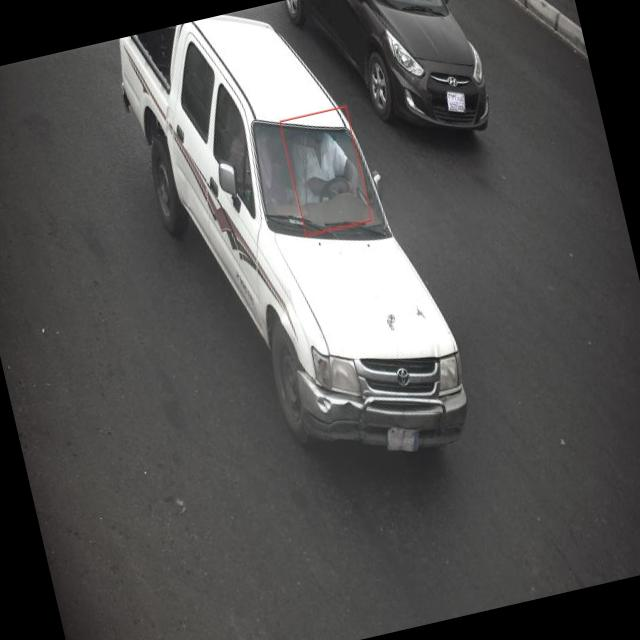person_without_seatbelt: (286, 111, 369, 229)
